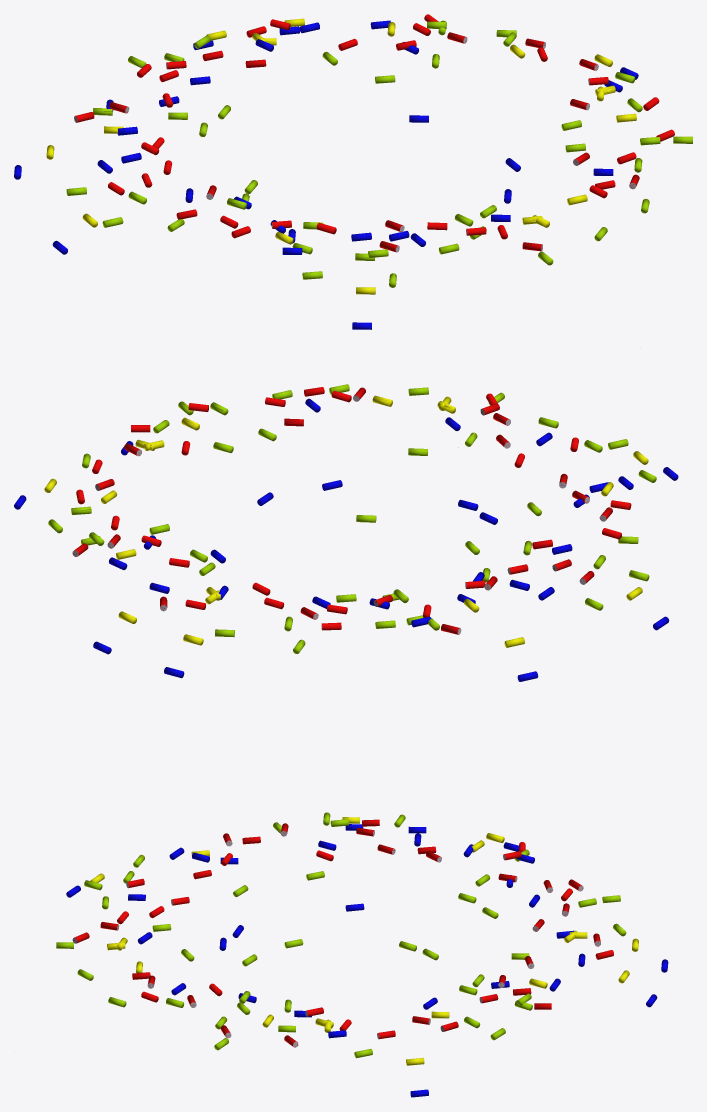
File: donut2_dust.dae
3 views of the same model, one above another, from view 1: azimuth 30°, elevation 25°; view 2: azimuth 150°, elevation 25°; view 3: azimuth 270°, elevation 25° (orthographic). The views are drawn at different scales.
Size of the model in its own units: 0.1221 by 0.1251 by 0.0258.
